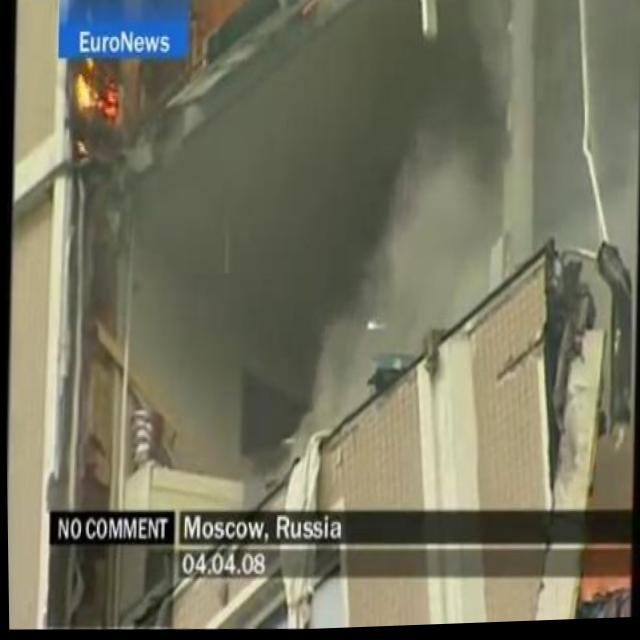fire: (70, 57, 123, 131)
